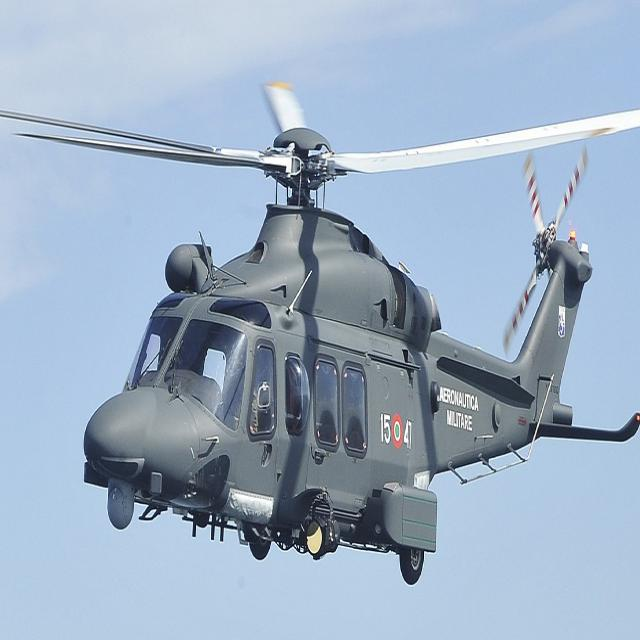helicopter: (1, 27, 640, 591)
